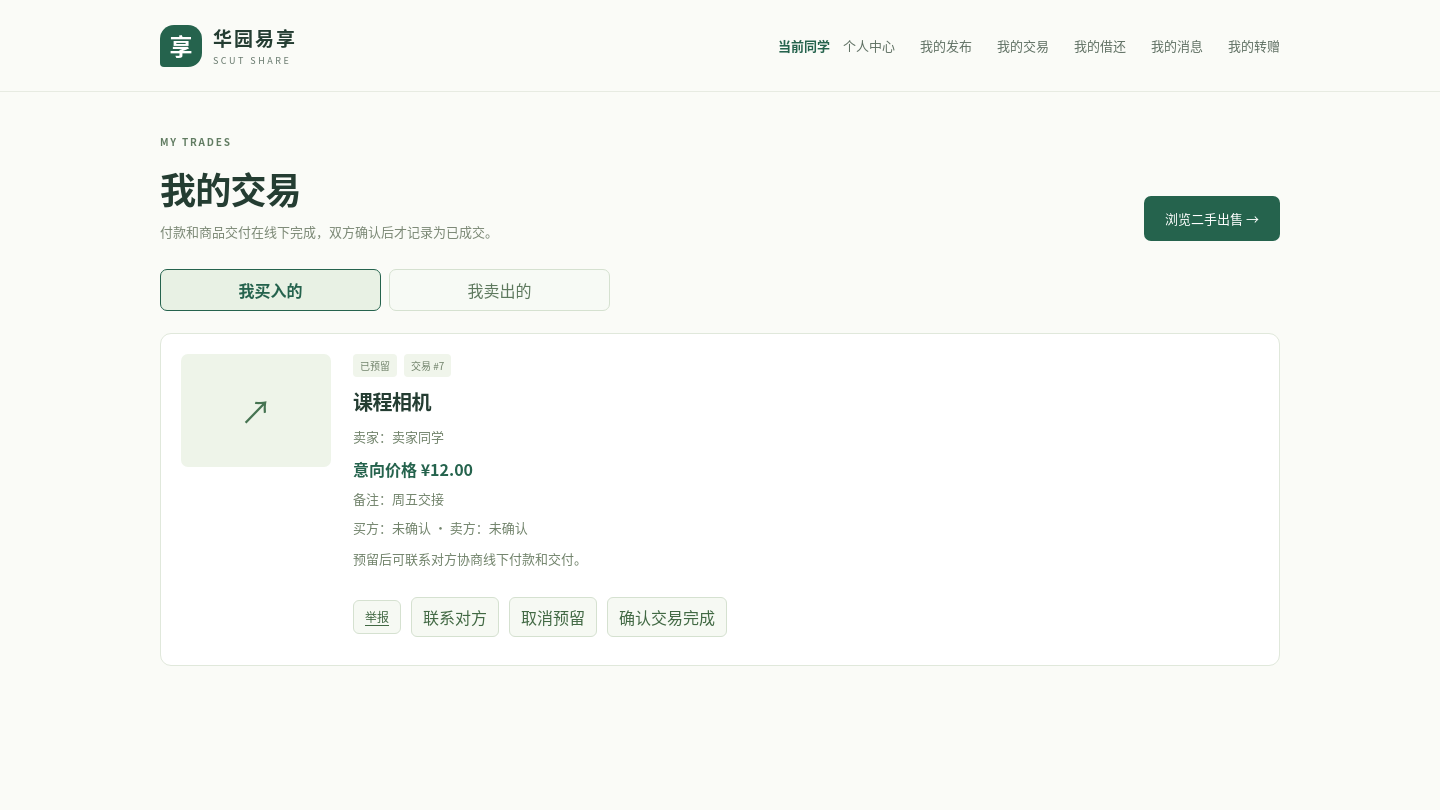
Test: 单方确认显示等待，隐藏取消；刷新后显示双方成交时间
Click the button "确认交易完成" at (667, 617), box [607,597,727,637]
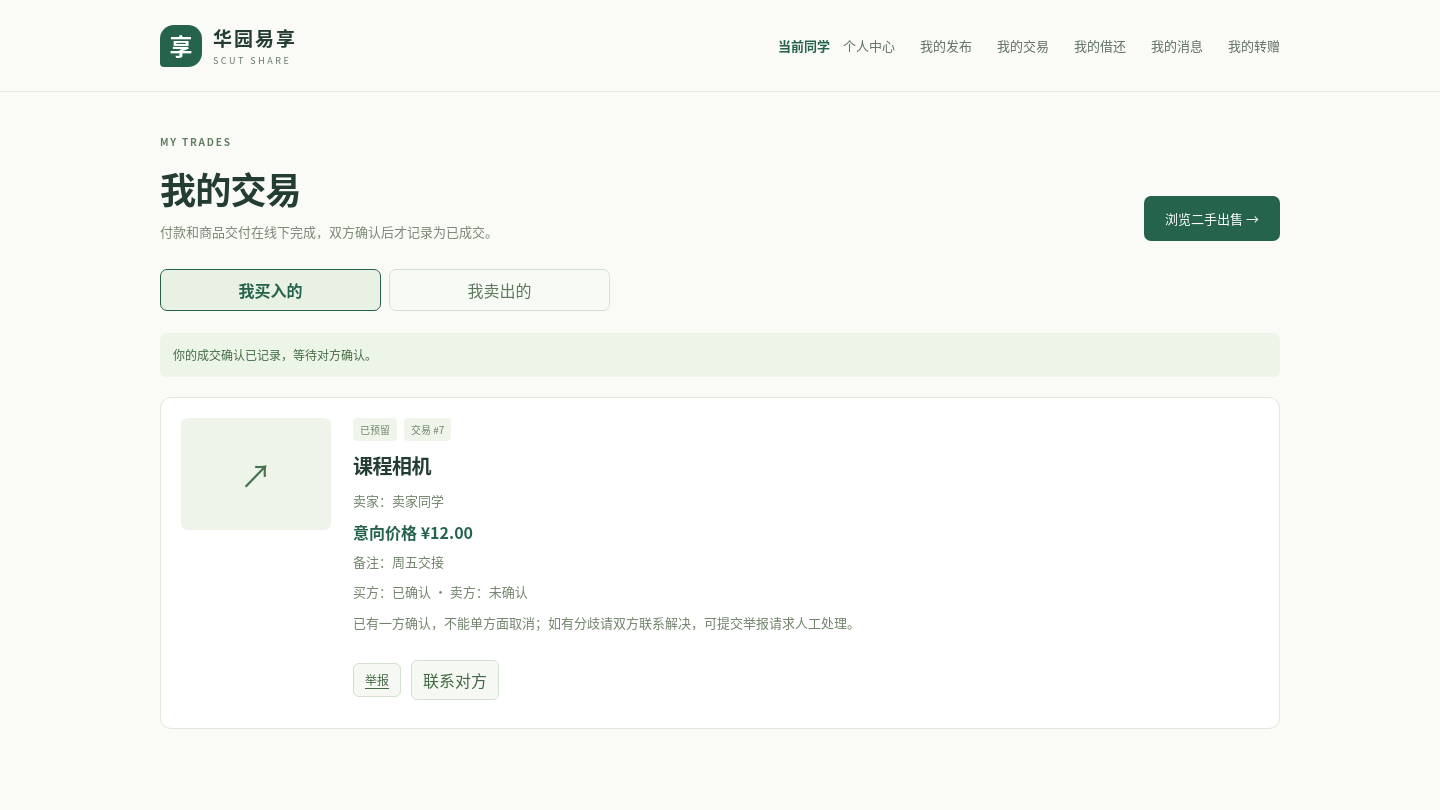
Expected: the text "你的成交确认已记录，等待对方确认。" is shown, [160,333,1280,377]
Expected: the text "买方：已确认 · 卖方：未确认" is shown, [353,582,528,601]
Expected: the button "取消预留" is gone
Click the button "我卖出的" at (500, 290), box [389,269,610,311]
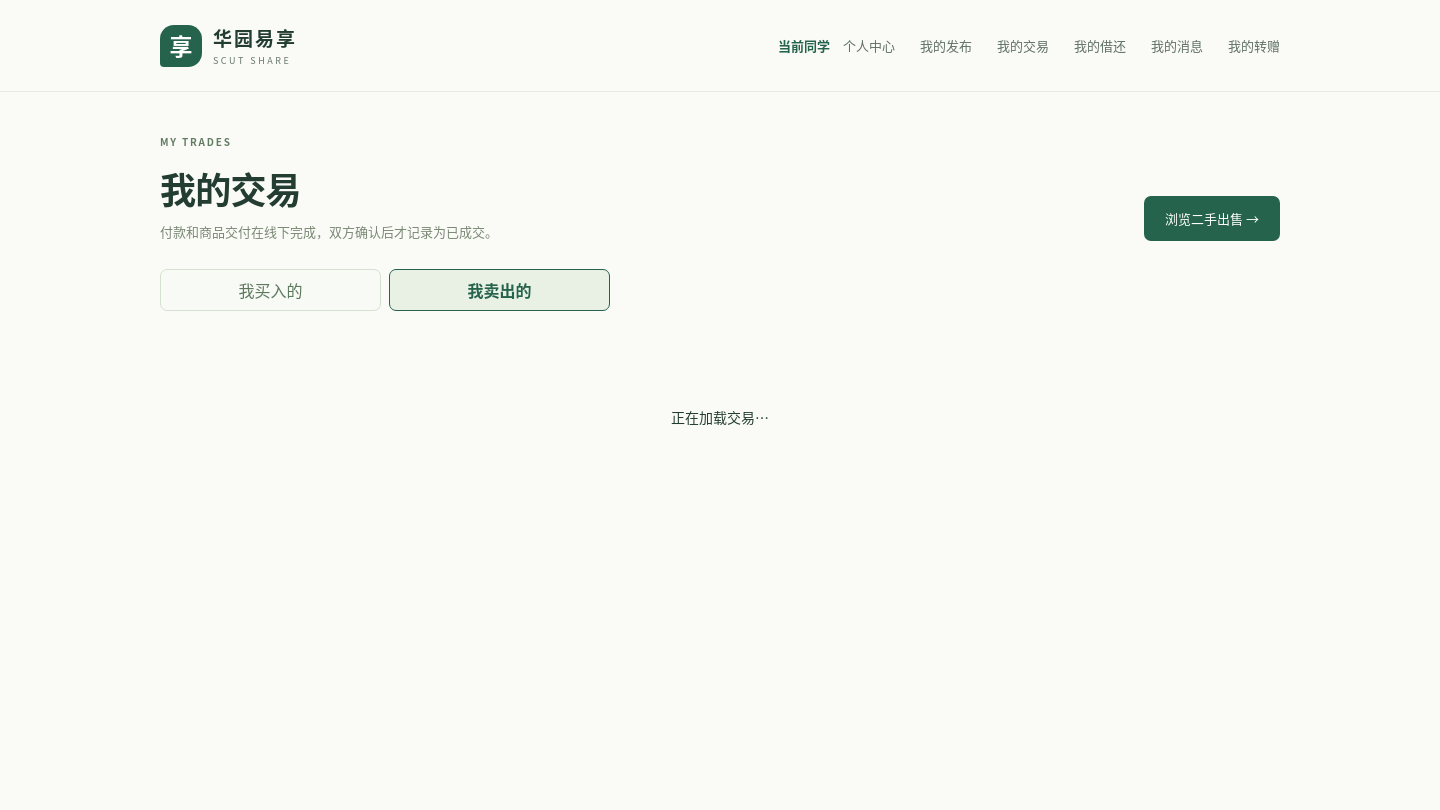
Click the button "我买入的" at (270, 290), box [160,269,381,311]
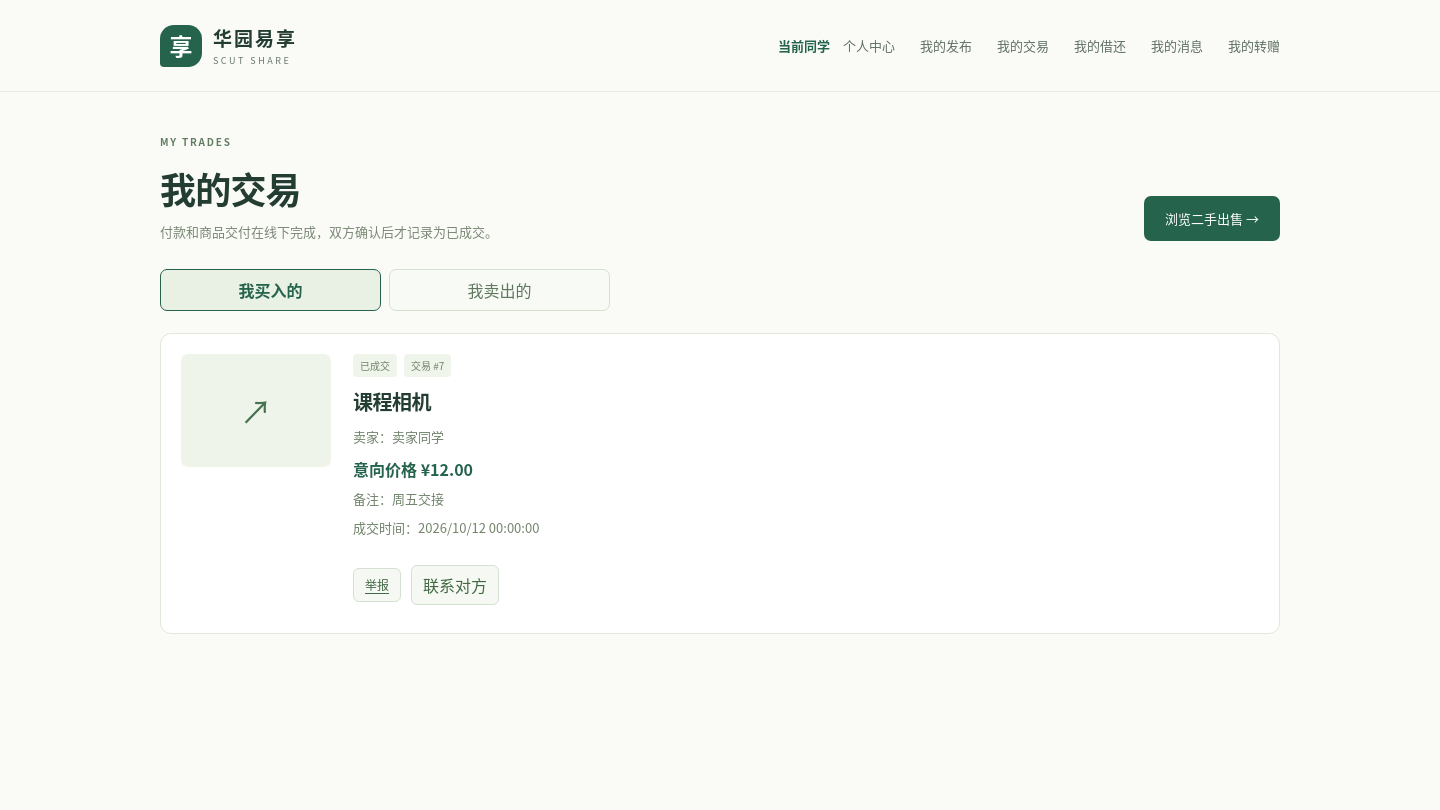
Expected: the text "已成交" is shown, [353,354,397,377]
Expected: the text "成交时间：2026/10/12 00:00:00" is shown, [353,518,539,537]
